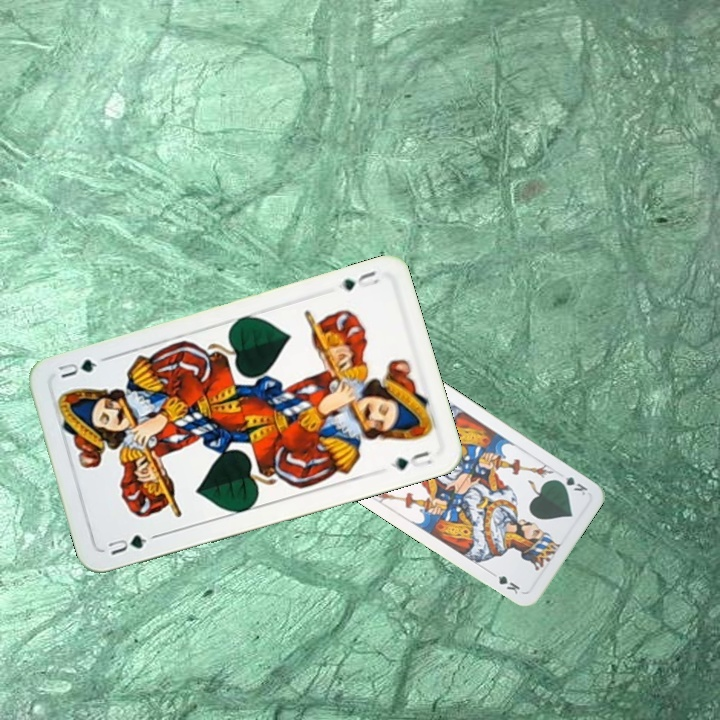GK: (552, 471, 590, 498)
GU: (101, 530, 150, 558), (337, 267, 382, 293)
